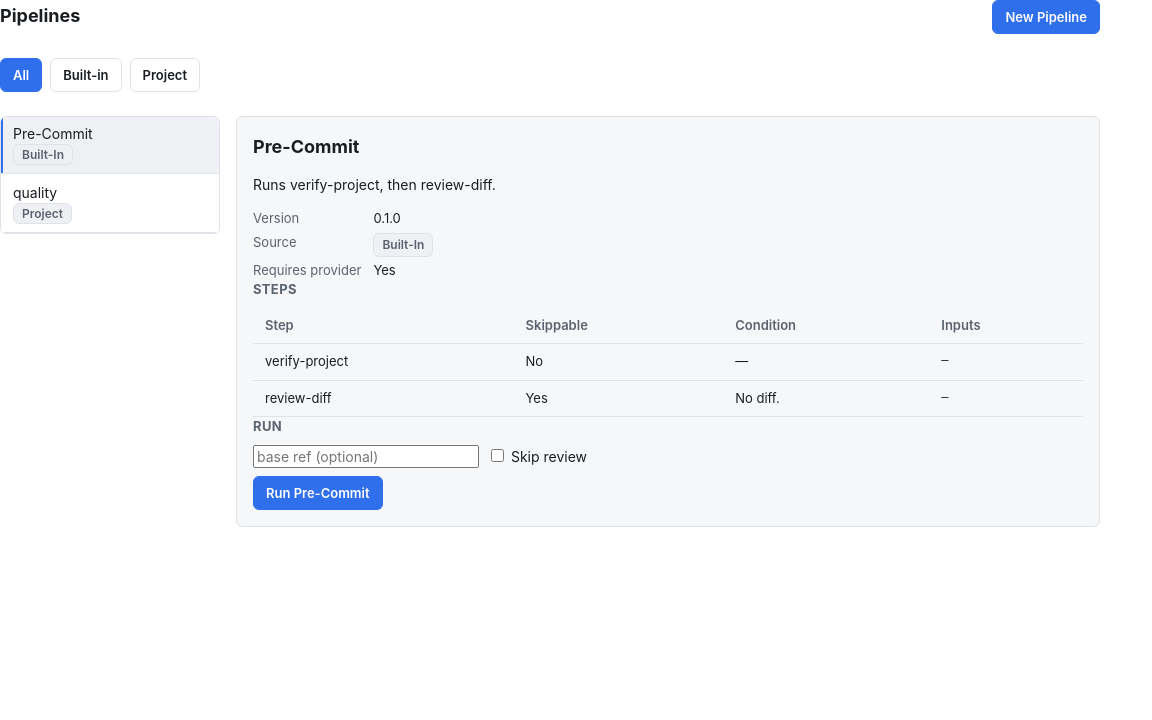
Test: PipelinesPage › creates a project-local pipeline and shows the generated path
The image size is (1152, 720).
Click the button "New Pipeline".
click(1046, 17)  # box x1=992 y1=0 x2=1100 y2=34
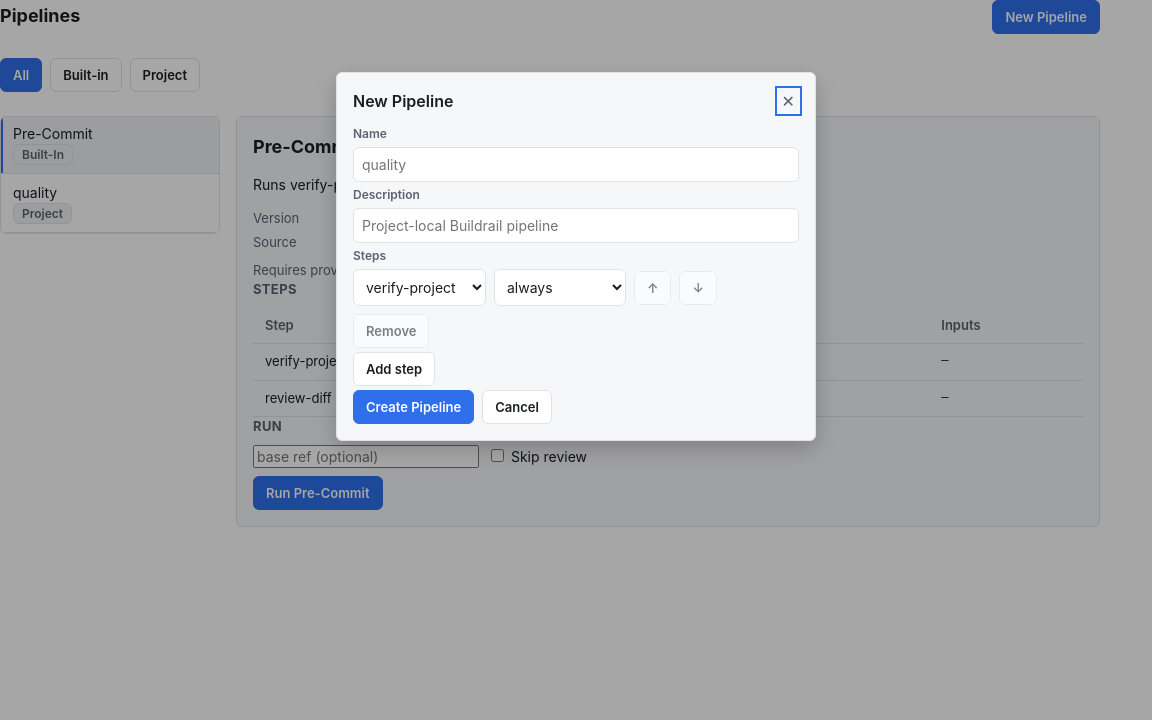
Type "review-flow" into the field labelled "Name".
click(576, 164); type("review-flow")  # box x1=353 y1=147 x2=799 y2=182
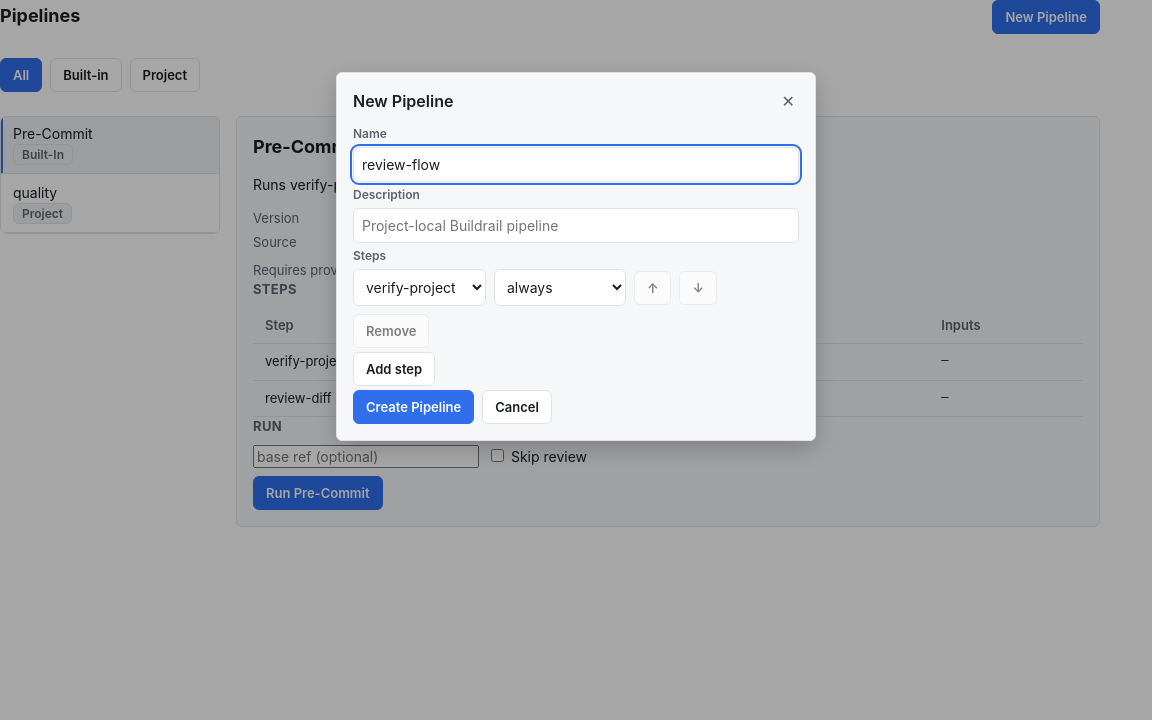
Click the button "Create Pipeline".
click(414, 407)  # box x1=353 y1=390 x2=474 y2=424
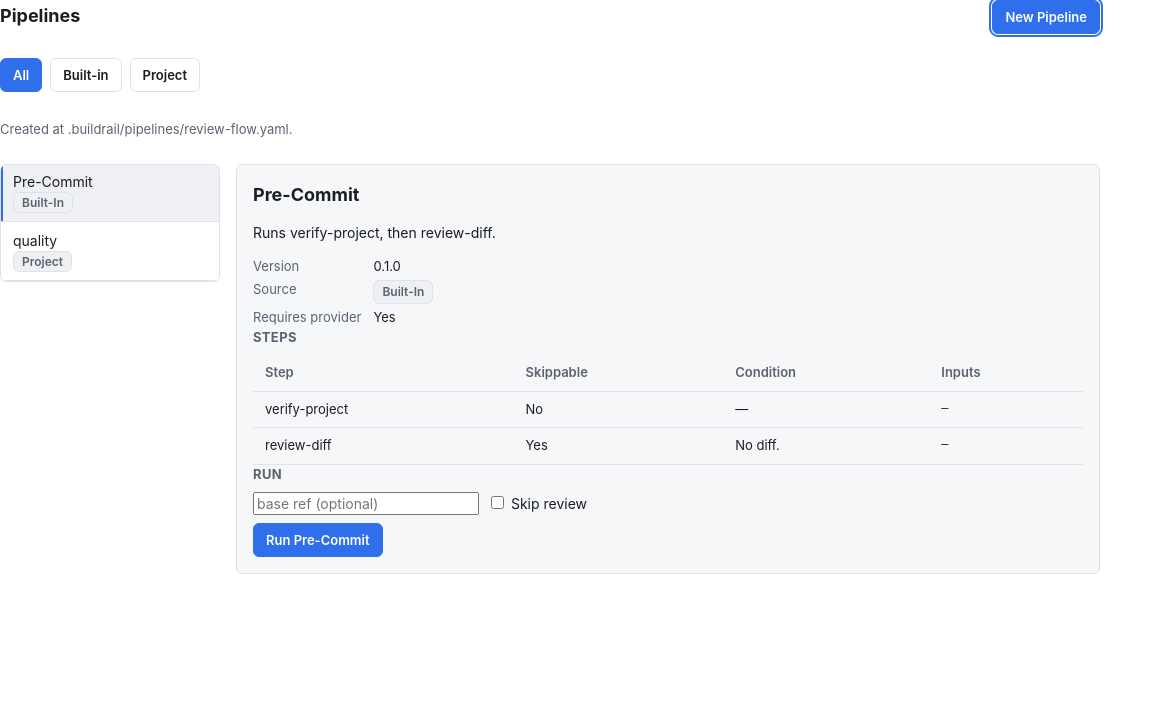
Expected: the text "Created at .buildrail/pipelines/review-flow.yaml." is shown, x1=0 y1=121 x2=292 y2=137
Expected: the label labelled "Name" is gone
